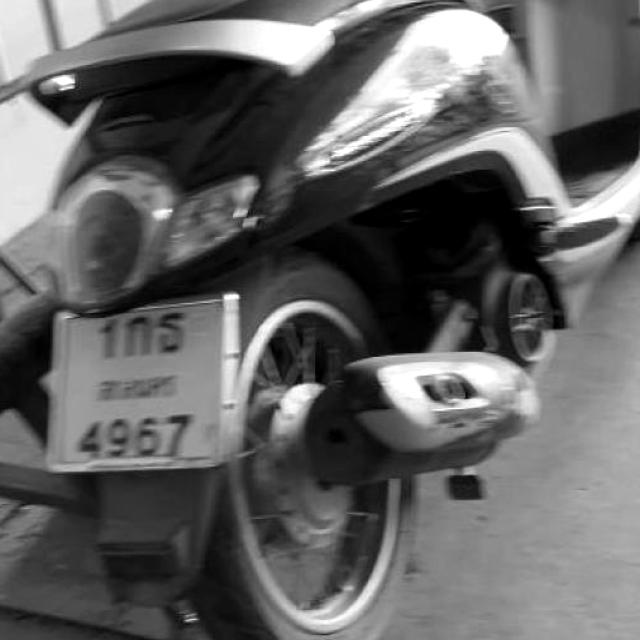letters: (158, 309, 188, 362), (123, 316, 153, 359), (166, 414, 188, 456), (103, 419, 130, 452), (139, 414, 161, 454), (98, 317, 116, 364), (85, 416, 105, 458)
license-plate: (47, 292, 232, 473)
province: (85, 374, 202, 404)
